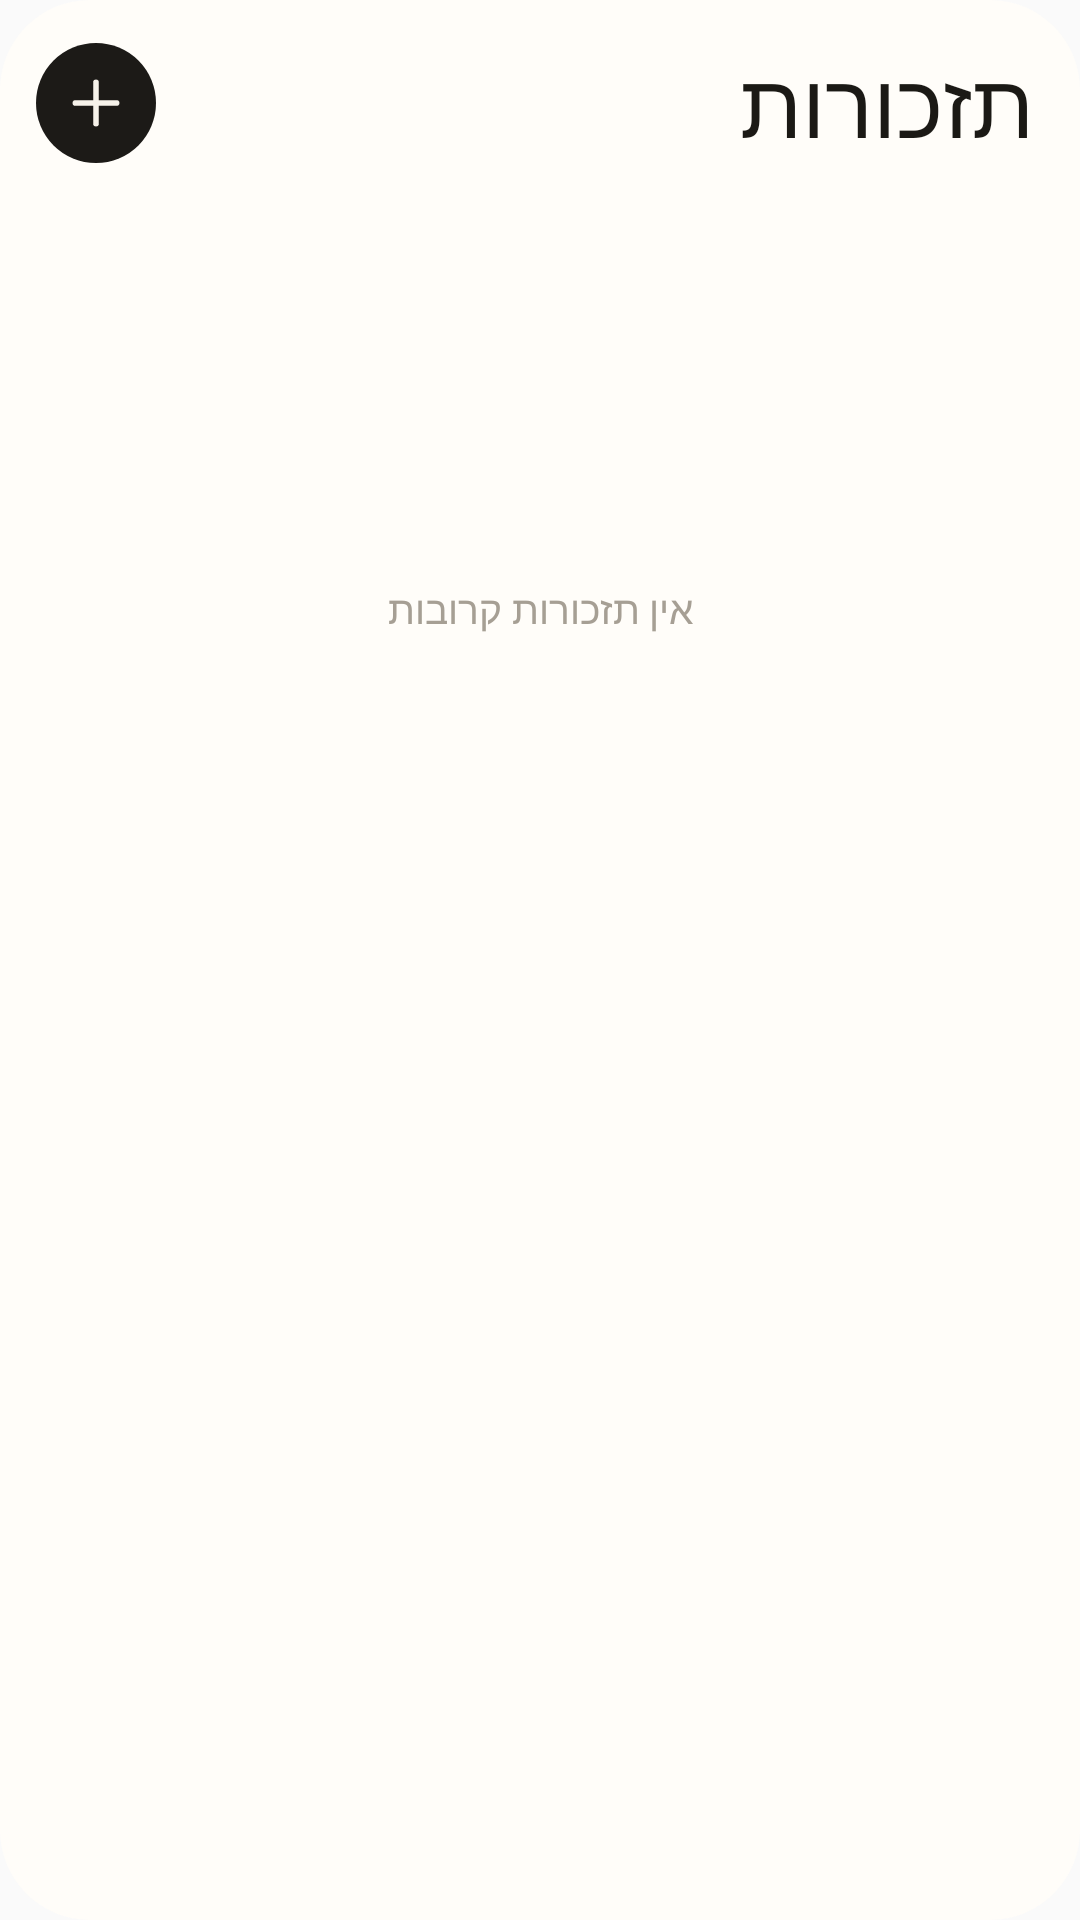

Icon bounding boxes for this 1080x1920 phone screenshot, format (x1, y1, x2, y2):
הוספת תזכורת: (36, 43, 156, 163)
